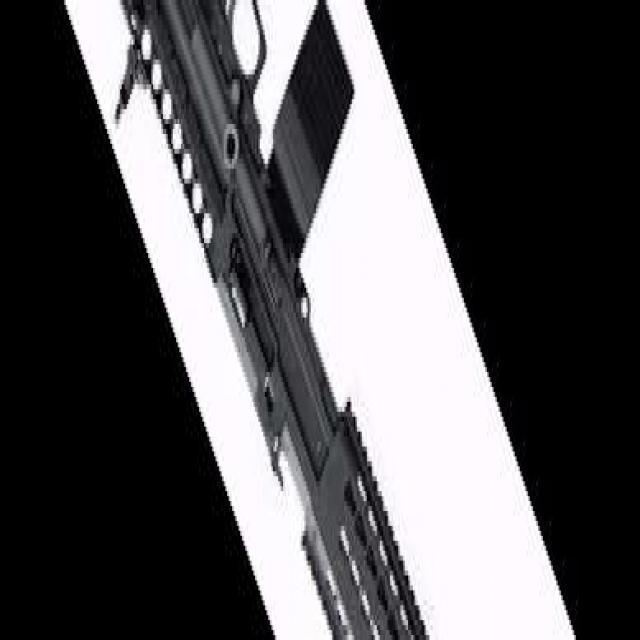weapon: (114, 0, 432, 640)
